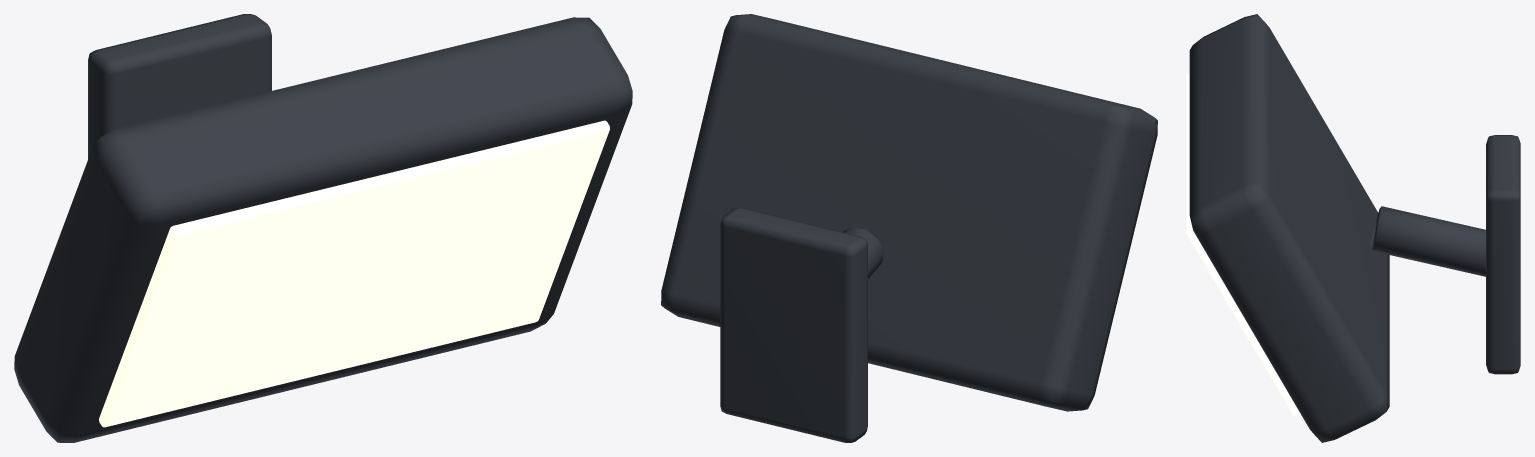
File: wall_lamp.glb
3 views of the same model, side by side, from view 1: azimuth 30°, elevation 25°; view 2: azimuth 150°, elevation 25°; view 3: azimuth 270°, elevation 25° (orthographic). The views are drawn at different scales.
Parts seen in each view (by area): view 1: Body, Glow; view 2: Body; view 3: Body, Glow.
Boxes of the visible parts, box(x1,y1,x2,y2) form: Body: box(14, 14, 632, 442); Glow: box(99, 120, 609, 427); Body: box(661, 14, 1157, 442); Body: box(1189, 14, 1520, 442); Glow: box(1186, 73, 1300, 416).
Size of the model in its own units: 0.3 by 0.1962 by 0.2317.
